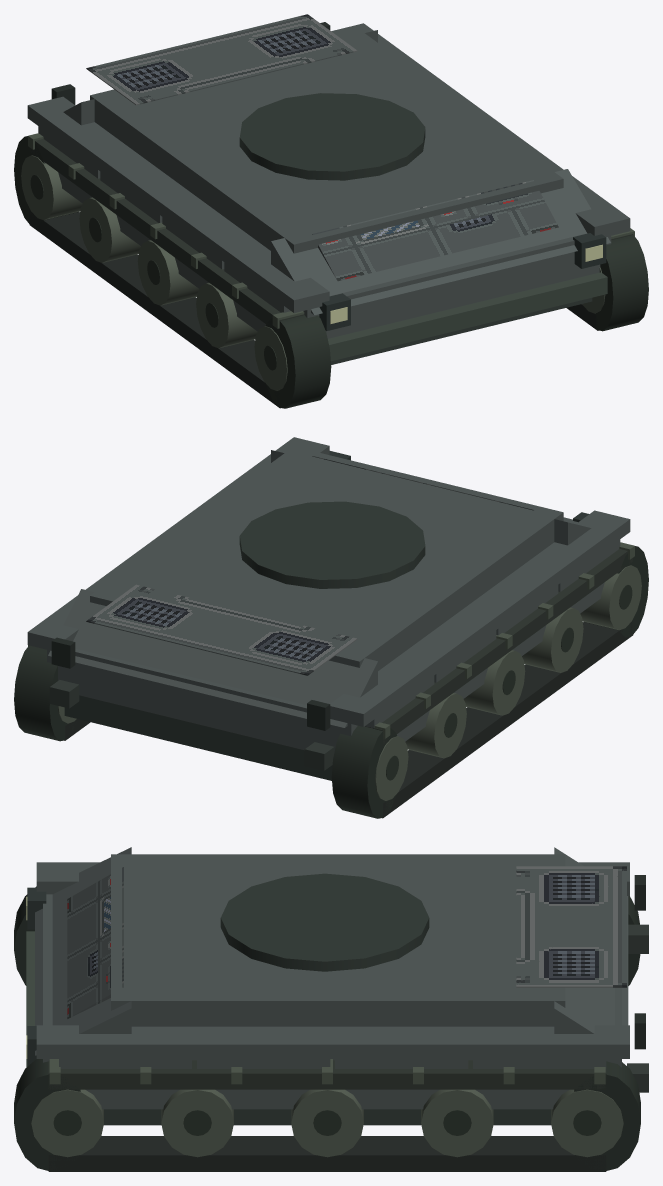
Rendered from CMU3DReduxVehicleTank.glb.
The picture shows the model from 3 angles, top to bottom: view 1: azimuth 30°, elevation 25°; view 2: azimuth 150°, elevation 25°; view 3: azimuth 270°, elevation 25°; orthographic projection. The views are drawn at different scales.
Visible parts, largest first — view 1: fighting compartment, track fender (×2), fixed turret race, engine deck, road wheel (×5), glacis finish, track return (×3), lower armored hull, sloped glacis, lower track run, front towing beam, upper track run (+4 smaller); view 2: fighting compartment, track fender (×2), fixed turret race, rear engine armor, engine deck, lower armored hull, road wheel (×5), track return (×3), lower track run, sealed belly, upper track run, side skirt panel (×4) (+3 smaller); view 3: fighting compartment, track fender (×2), road wheel (×5), fixed turret race, lower track run, engine deck, side skirt panel (×4), upper track run, track return (×4), glacis finish, sloped glacis, sealed belly (+6 smaller).
Boxes of the visible parts, x1,y1,x2,y2 form: fighting compartment: [90, 29, 563, 253]; track fender (×2): [27, 23, 630, 312]; fixed turret race: [239, 93, 425, 180]; engine deck: [86, 14, 357, 105]; road wheel (×5): [21, 155, 287, 390]; glacis finish: [312, 180, 558, 281]; track return (×3): [14, 136, 648, 408]; lower armored hull: [303, 233, 611, 338]; sloped glacis: [271, 169, 610, 315]; lower track run: [29, 211, 280, 408]; front towing beam: [328, 272, 607, 361]; upper track run: [29, 139, 304, 333]; fighting compartment: [90, 446, 563, 670]; track fender (×2): [27, 437, 630, 726]; fixed turret race: [239, 501, 425, 588]; rear engine armor: [48, 589, 377, 727]; engine deck: [86, 584, 357, 675]; lower armored hull: [47, 517, 577, 752]; road wheel (×5): [375, 565, 641, 800]; track return (×3): [14, 546, 648, 818]; lower track run: [382, 621, 632, 818]; sealed belly: [64, 695, 332, 780]; upper track run: [365, 549, 632, 743]; side skirt panel (×4): [365, 539, 620, 741]; fighting compartment: [111, 854, 565, 1026]; track fender (×2): [36, 862, 629, 1058]; road wheel (×5): [31, 1089, 623, 1157]; fixed turret race: [220, 873, 429, 971]; lower track run: [48, 1136, 606, 1171]; engine deck: [516, 866, 626, 987]; side skirt panel (×4): [59, 1059, 606, 1109]; upper track run: [48, 1060, 606, 1089]; track return (×4): [14, 886, 640, 1171]; glacis finish: [67, 867, 123, 1018]; sloped glacis: [35, 847, 131, 1055]; sealed belly: [104, 1109, 551, 1125].
Size of the model in its own units: 2.91 by 1.11 by 4.02.
Materials: 17 (2 with a texture image).
